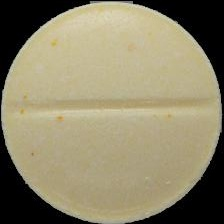63629-2816: (0, 0, 224, 224)
